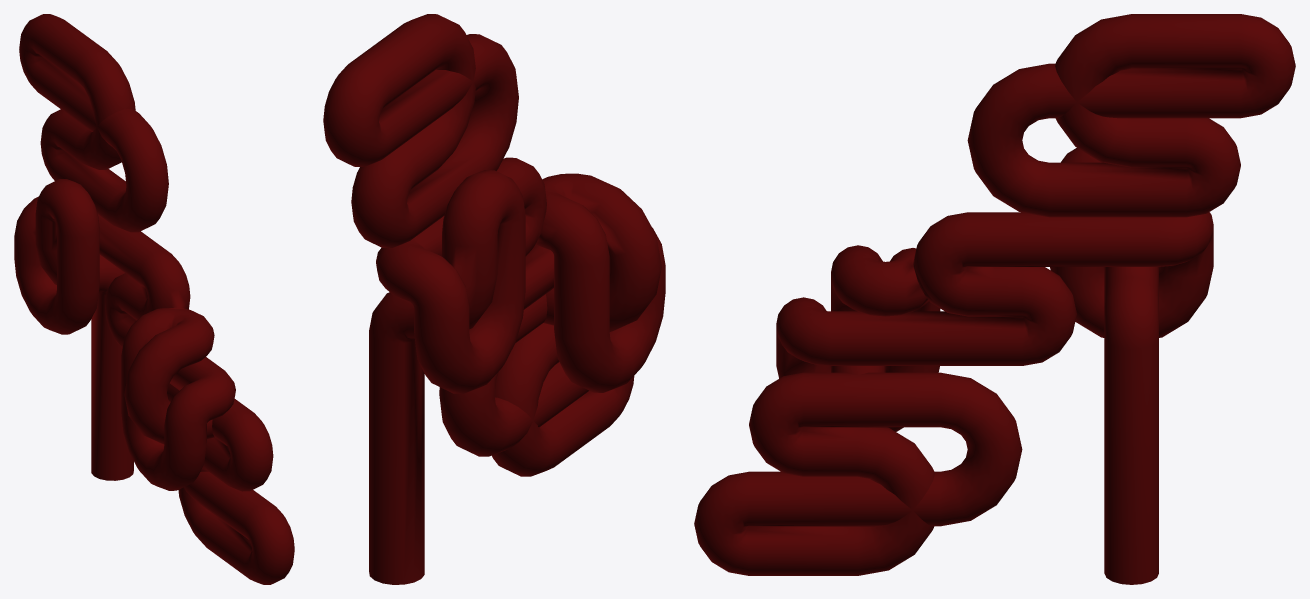
Rendered from monster.fbx.
3 views of the same model, side by side, from view 1: azimuth 30°, elevation 25°; view 2: azimuth 150°, elevation 25°; view 3: azimuth 270°, elevation 25° (orthographic). The views are drawn at different scales.
Parts seen in each view (by area): view 1: polySurface119; view 2: polySurface119; view 3: polySurface119.
Part boxes in pixels (bbox=[...]): polySurface119: bbox=[14, 14, 294, 584]; polySurface119: bbox=[323, 14, 665, 584]; polySurface119: bbox=[694, 14, 1295, 584].
Bounding box in the file's own units: 3 × 11 × 11.
